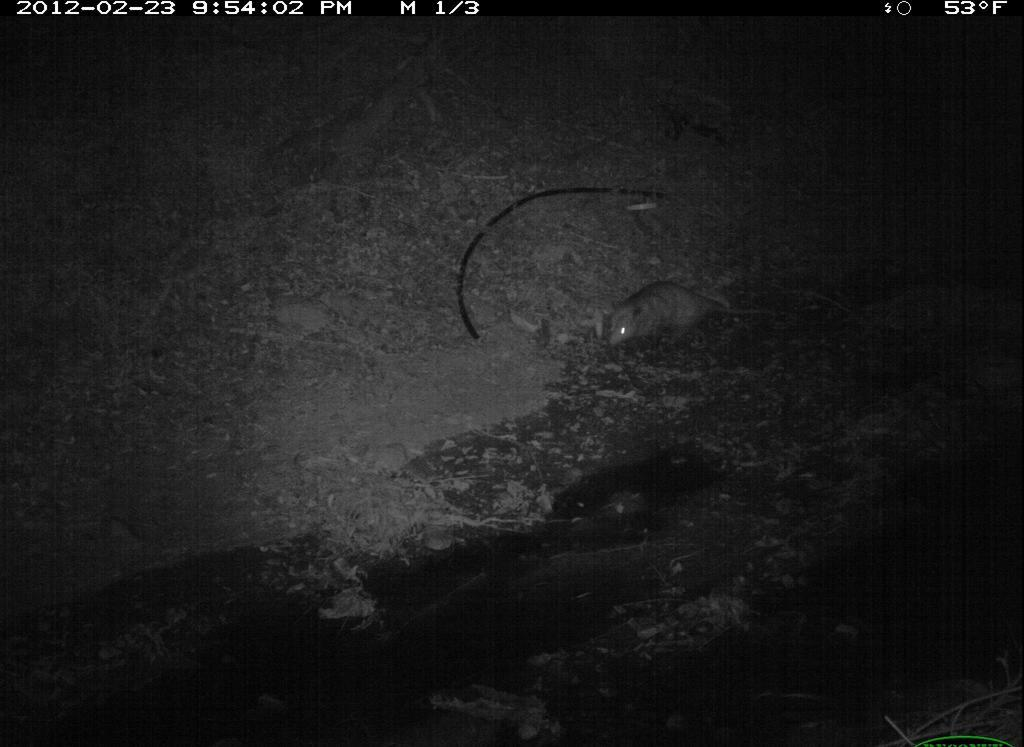opossum: (593, 262, 781, 367)
